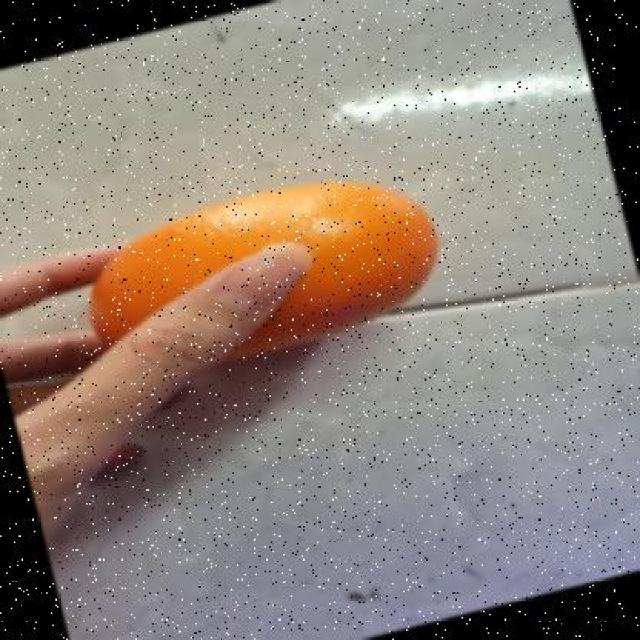Orange: (88, 178, 440, 362)
